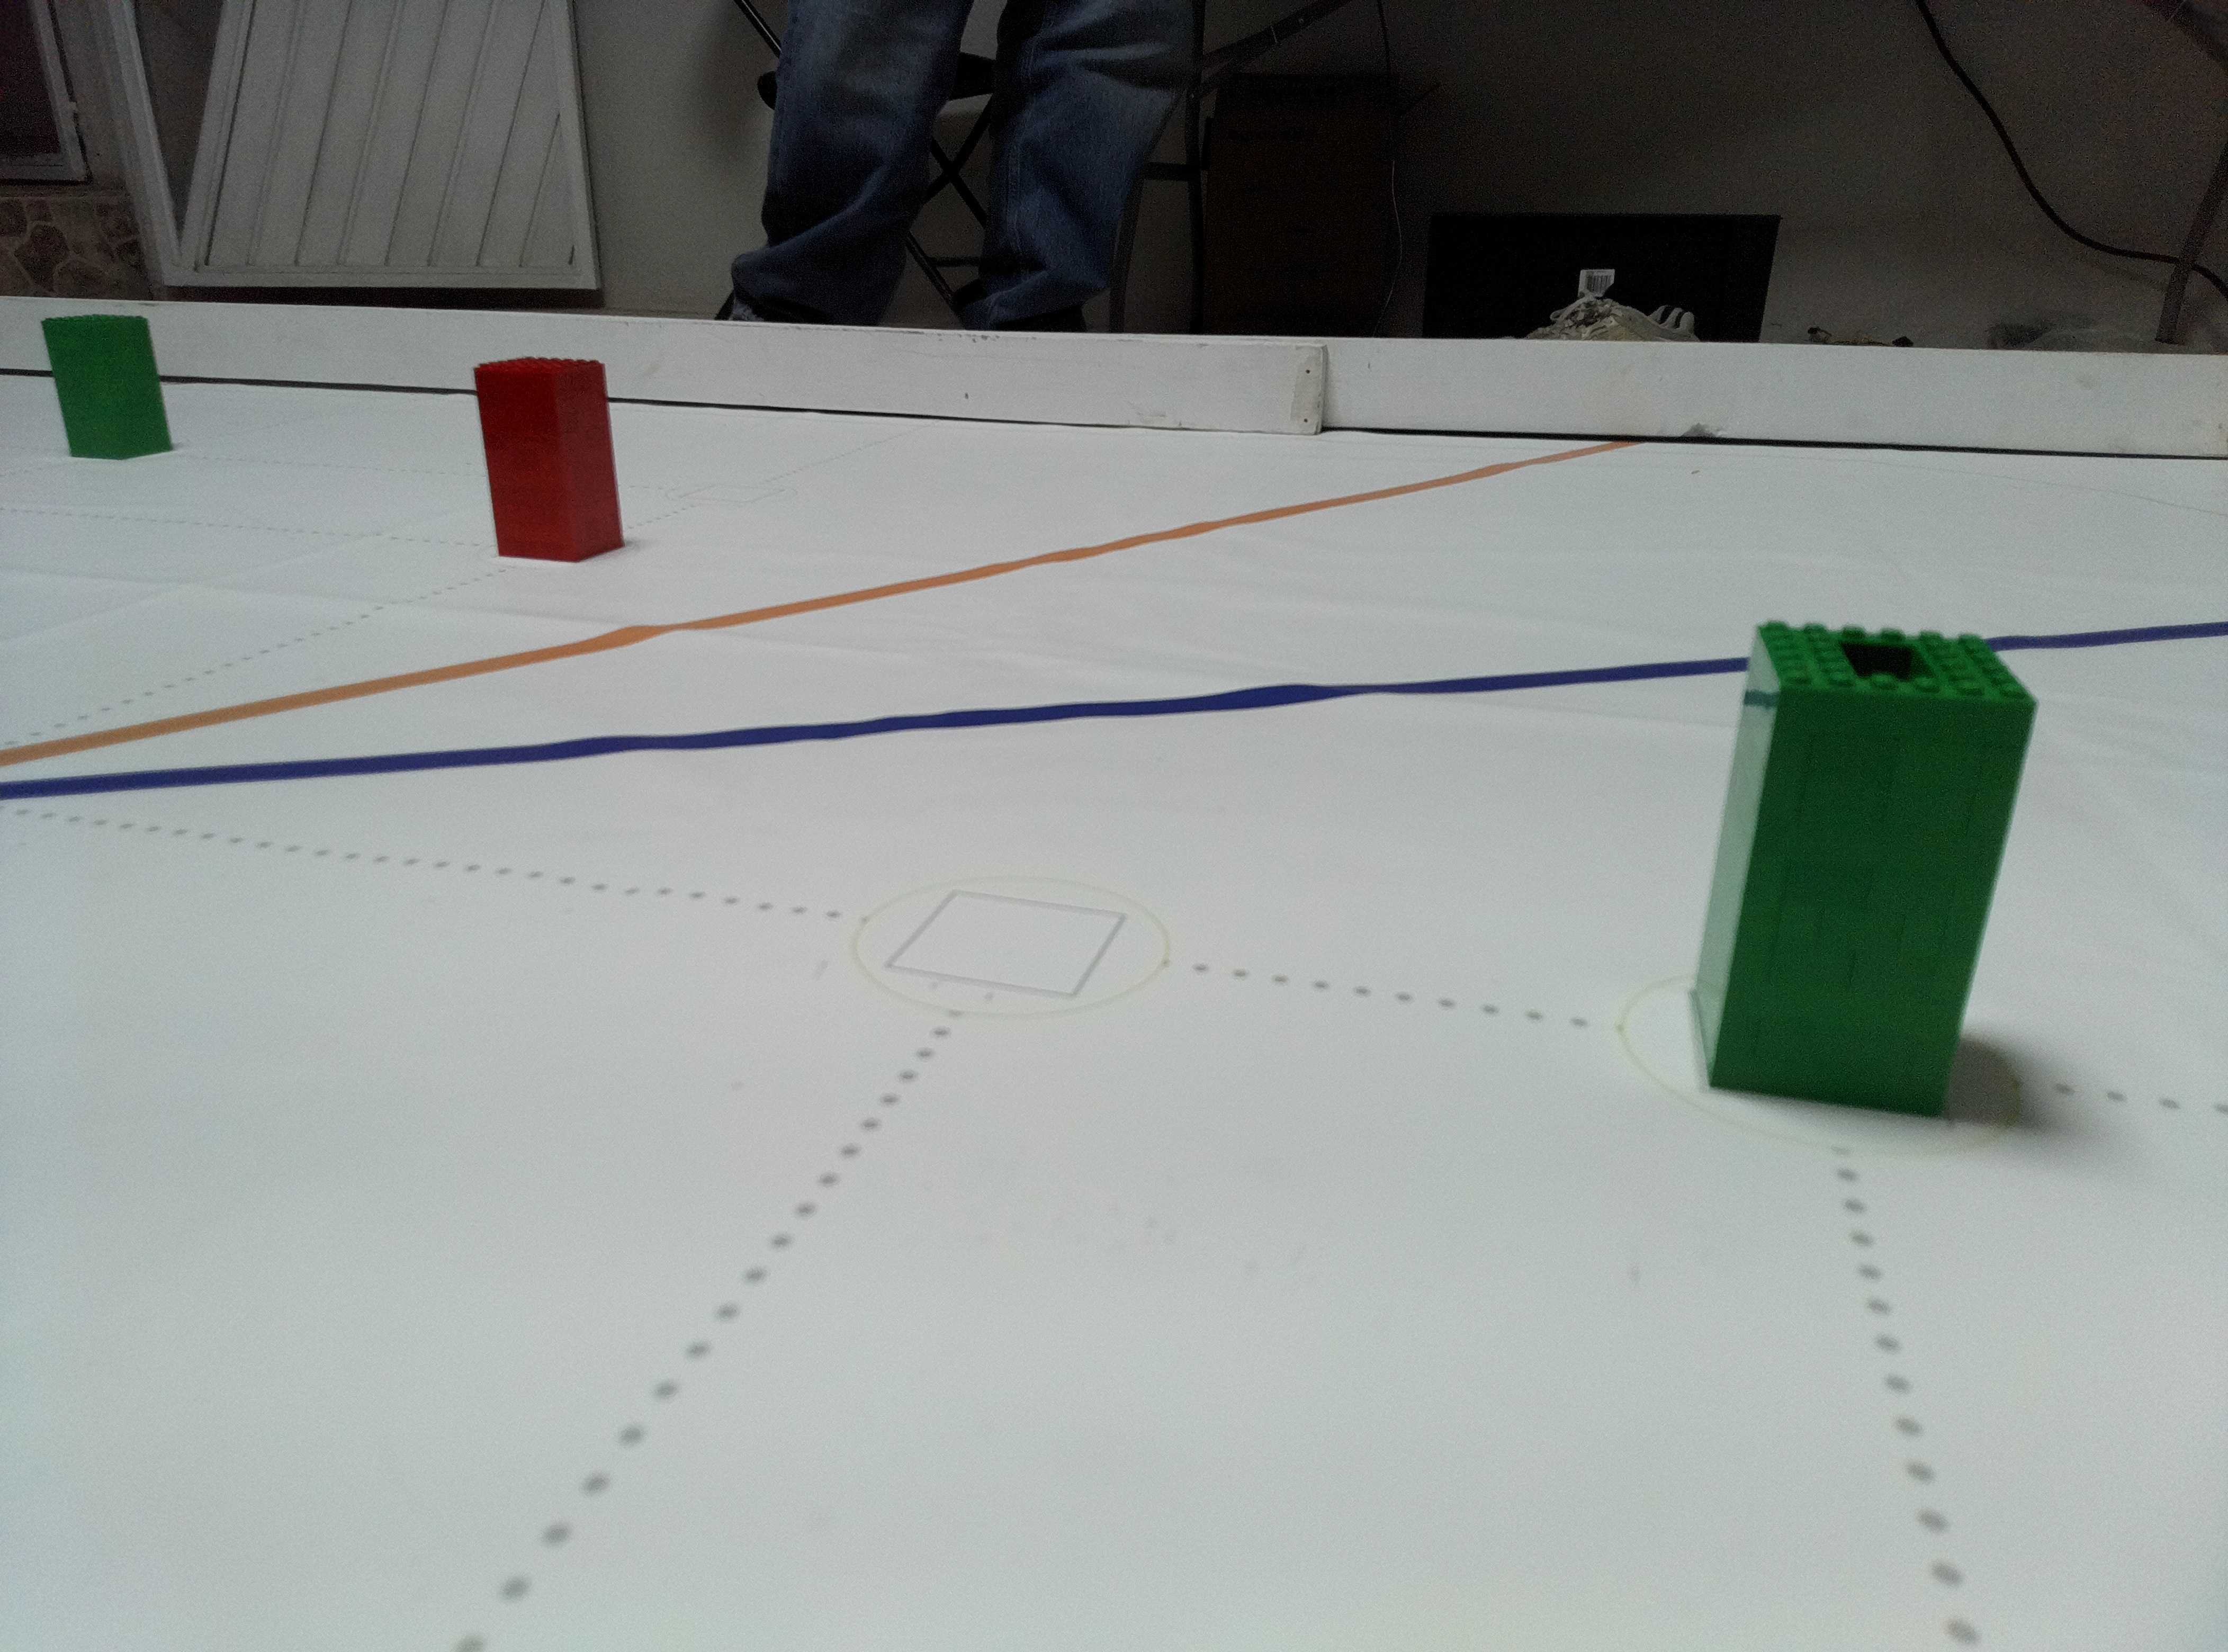greenbox: (1700, 611, 2034, 1109), (36, 302, 179, 465)
redbox: (475, 357, 623, 567)
